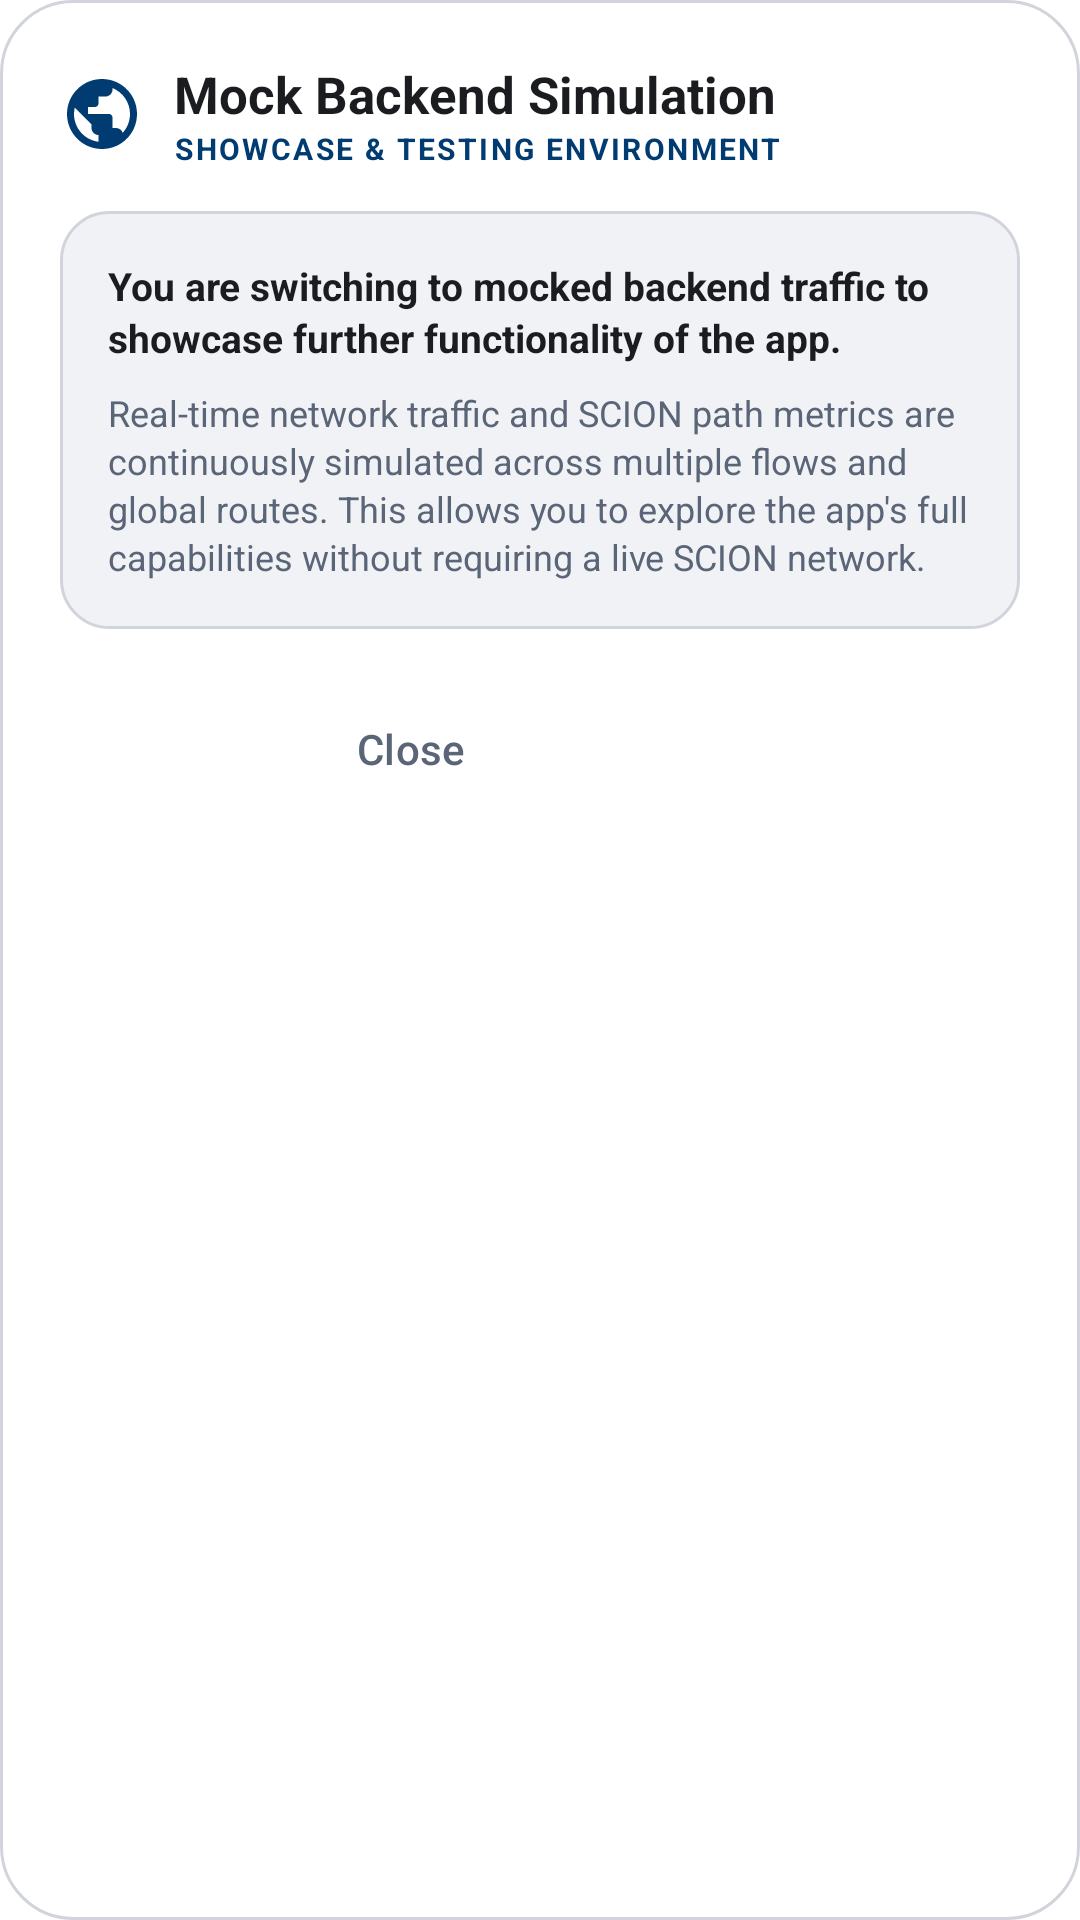

Screen size 1080×1920. Icon name, then its center in pixels as (x=x, y=y):
globe: (x=102, y=114)
